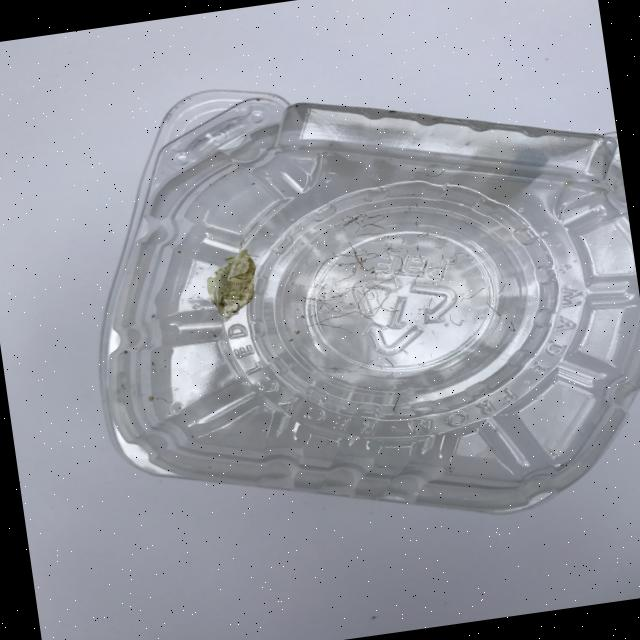plastic: (60, 34, 640, 569)
